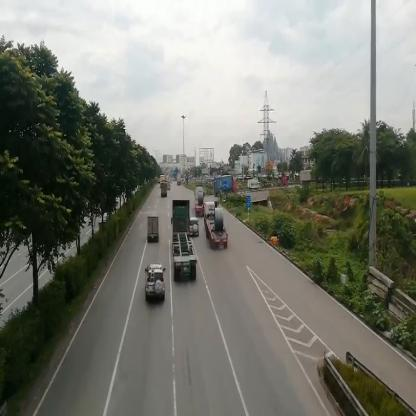car: (147, 266, 167, 303), (191, 219, 200, 239)
container: (173, 201, 191, 283), (207, 205, 228, 251), (212, 176, 240, 194), (196, 187, 204, 219), (277, 175, 290, 188)
truck: (149, 218, 160, 245), (161, 183, 169, 198)
